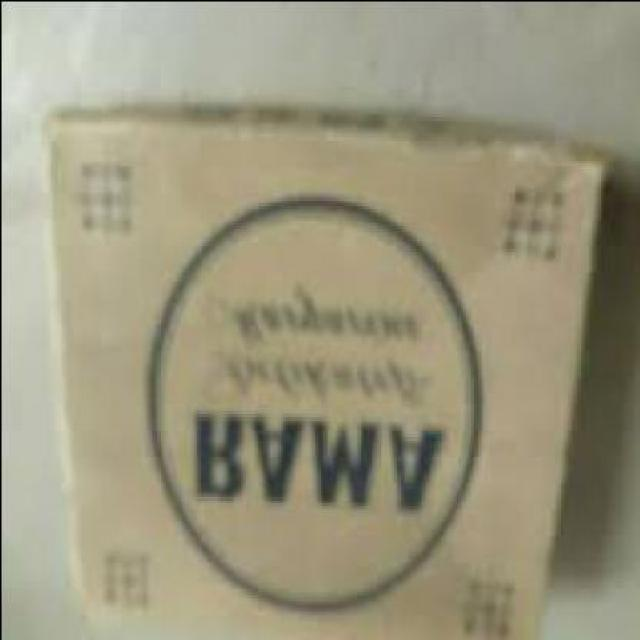box: (37, 119, 608, 639)
